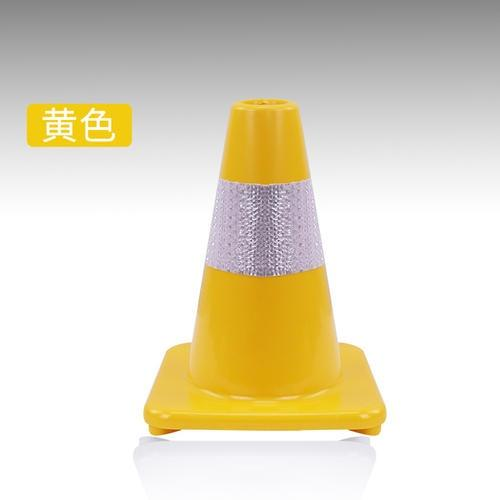cone_barrel: (176, 100, 357, 404)
